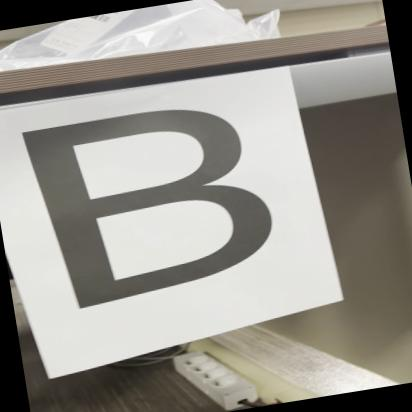seat: (9, 83, 293, 326)
